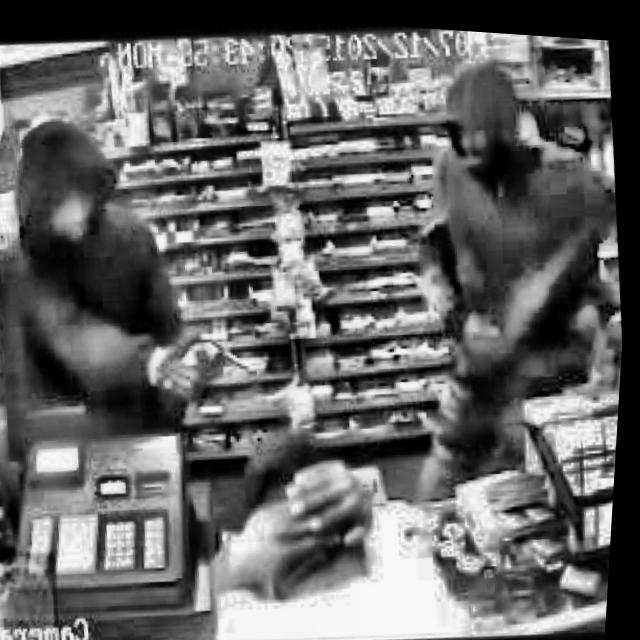robbery: (369, 29, 640, 500), (0, 90, 286, 458), (196, 400, 489, 640)
